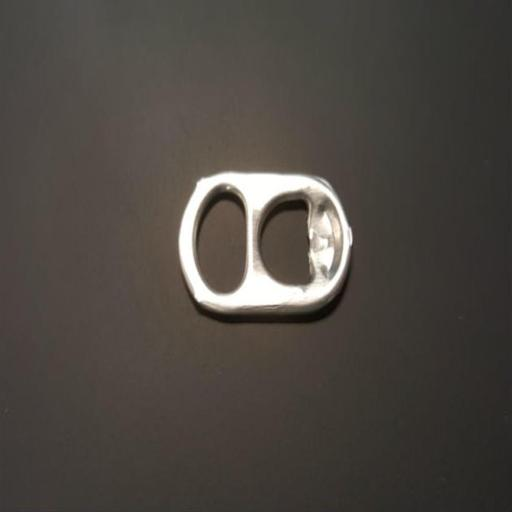pop tab: (178, 167, 352, 321)
